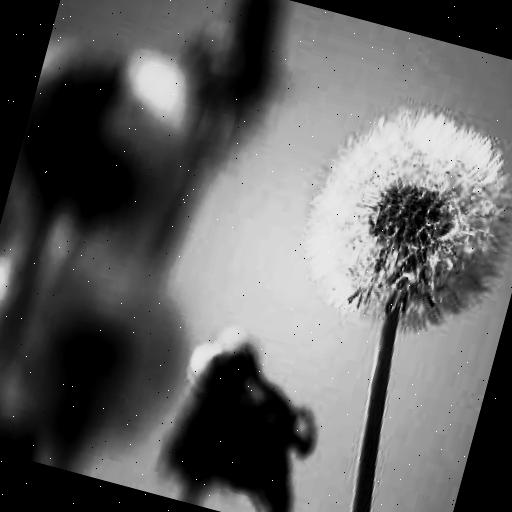dandelion: (289, 89, 512, 349)
